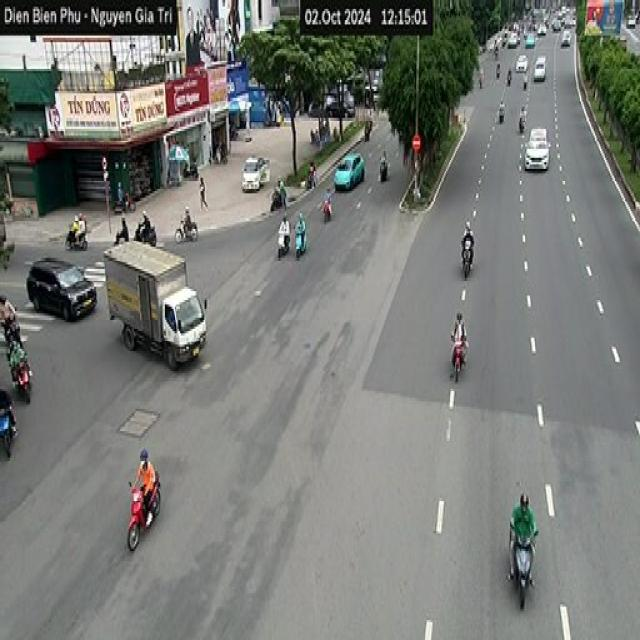car: (26, 256, 96, 320), (333, 151, 365, 191), (524, 127, 550, 171), (532, 53, 546, 80), (515, 53, 527, 71)
motorcycle: (126, 471, 162, 551), (450, 333, 469, 382), (65, 222, 87, 249), (174, 218, 198, 242), (135, 220, 156, 244), (460, 238, 472, 278), (276, 226, 290, 258), (295, 229, 306, 258), (378, 158, 388, 180)
person: (508, 491, 538, 587), (131, 446, 155, 526), (450, 311, 468, 367), (460, 220, 474, 267), (112, 218, 128, 244), (198, 175, 208, 209)
truck: (101, 236, 208, 371)
